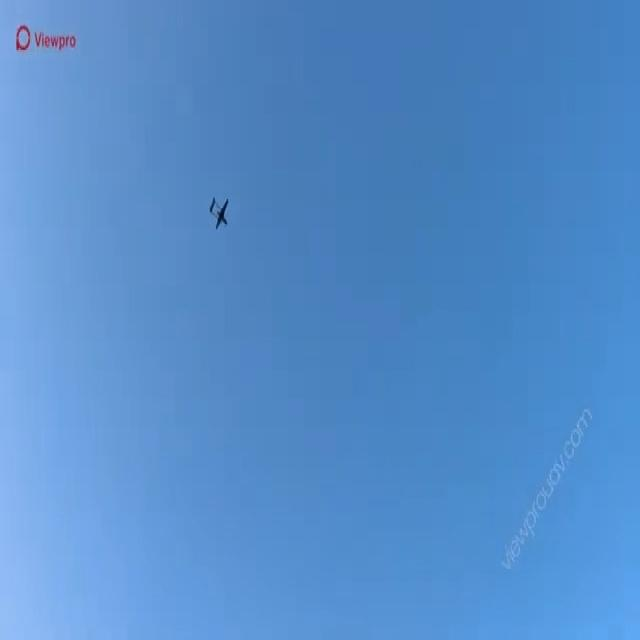drones: (204, 188, 235, 239)
